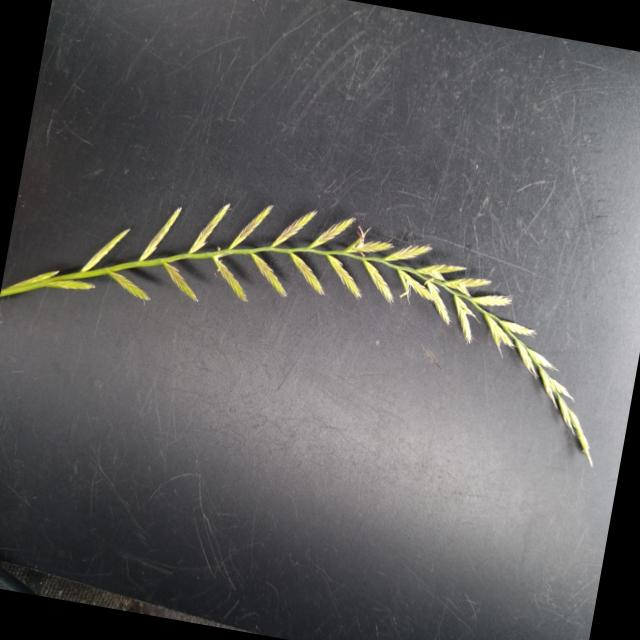Lolium: (0, 153, 631, 472)
